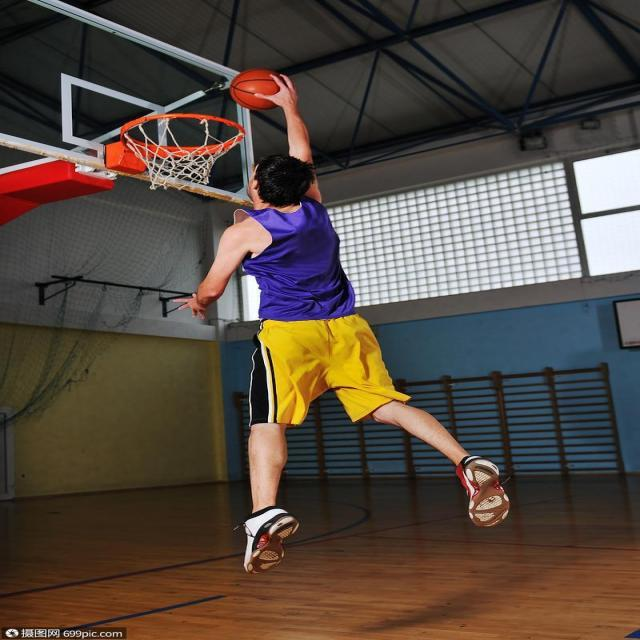rim: (230, 70, 288, 110)
